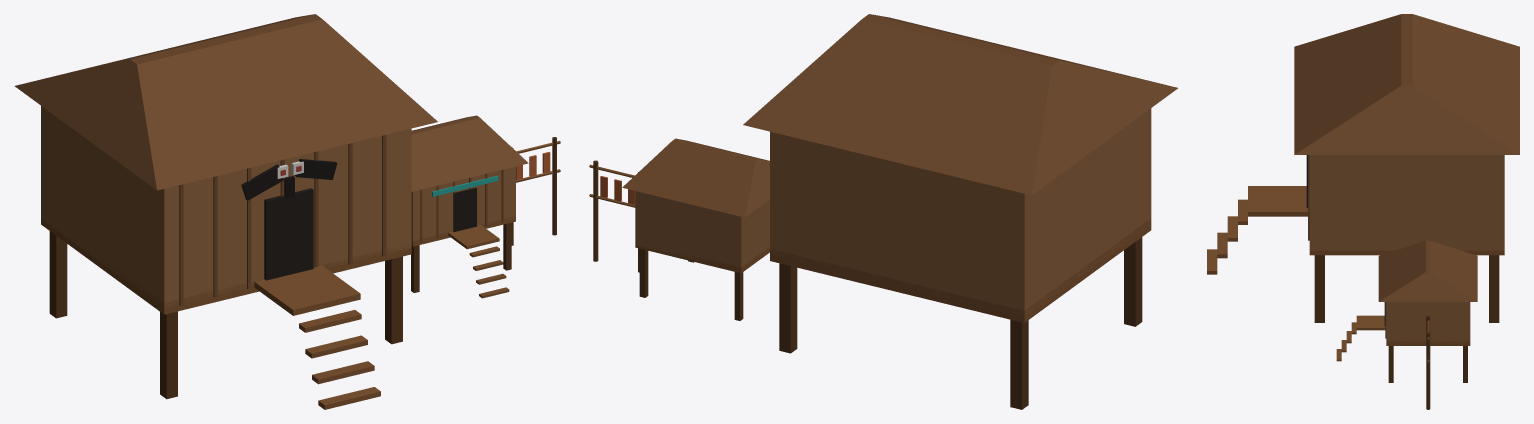
The model's file is bird_hall.glb.
The picture shows the model from 3 angles, left to right: view 1: azimuth 30°, elevation 25°; view 2: azimuth 150°, elevation 25°; view 3: azimuth 270°, elevation 25°; orthographic projection. The views are drawn at different scales.
Parts seen in each view (by area): view 1: bird_hall; view 2: bird_hall; view 3: bird_hall.
Part boxes in pixels (x1=…): bird_hall: x1=14, y1=14, x2=560, y2=409; bird_hall: x1=589, y1=14, x2=1177, y2=409; bird_hall: x1=1207, y1=14, x2=1519, y2=409.
Bounding box in the file's own units: 6.29 × 3.55 × 4.42.
